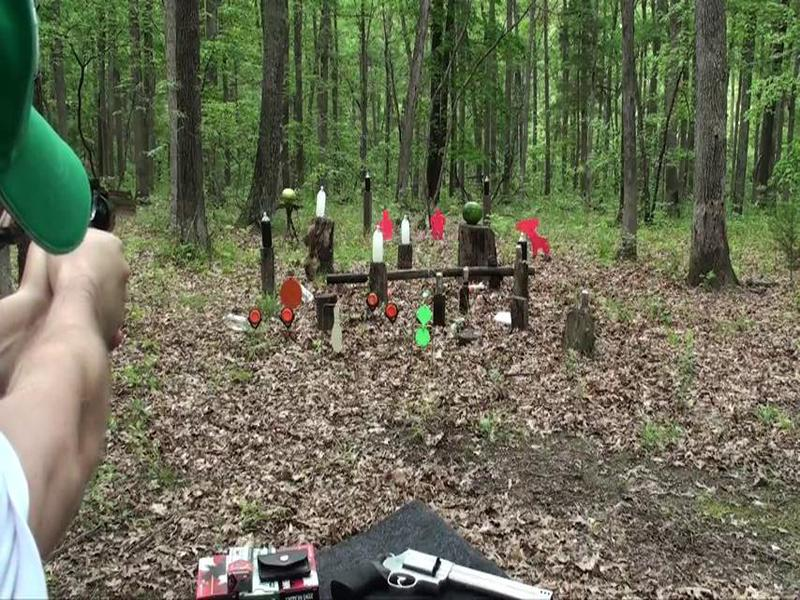Revolver: (70, 180, 156, 264)
